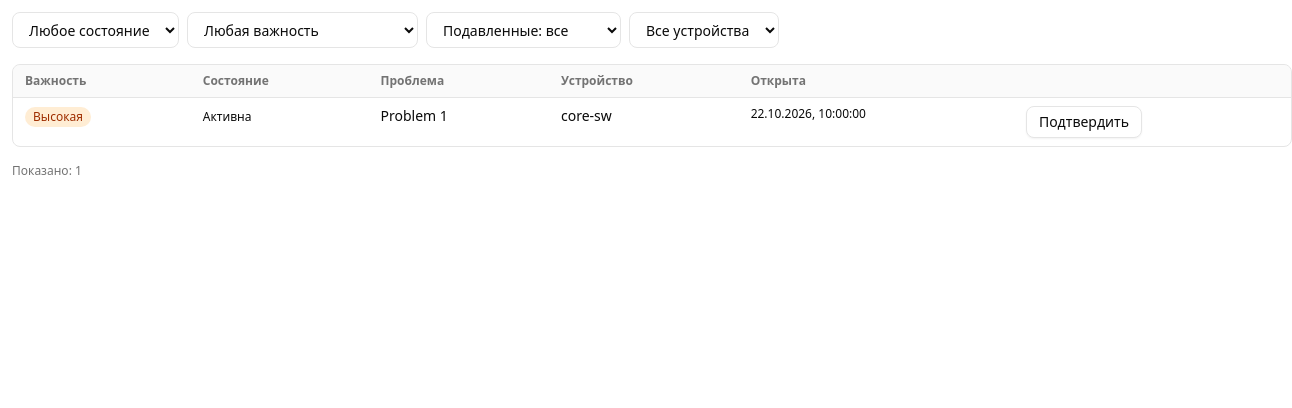
Test: ProblemList › maps a server refusal to a localized message
The width and height of the screenshot is (1292, 408).
Click the button with aria-label "Подробности". click: (1084, 122)
box: [1026,106,1142,138]
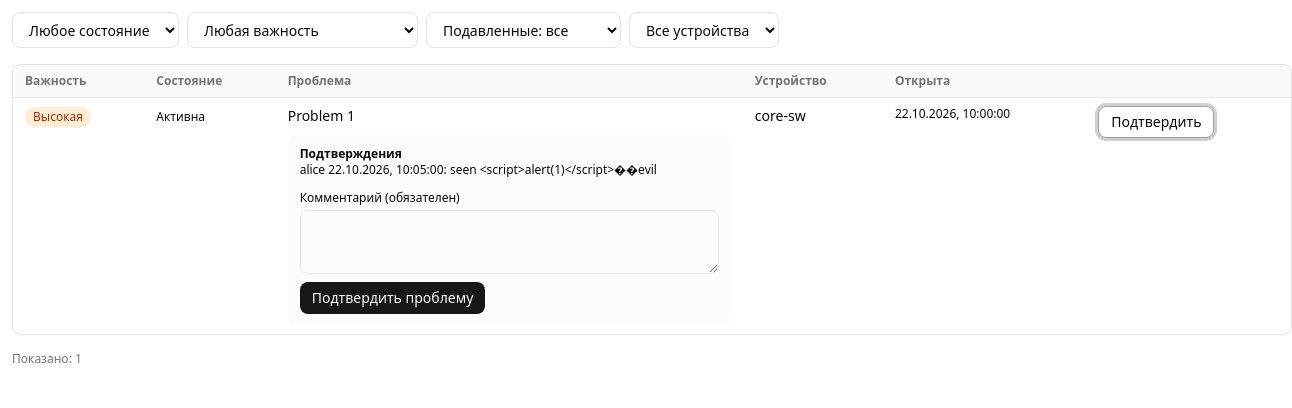
Type "late" into the text box labelled "Комментарий (обязателен)". click: (509, 242)
box: [300,210,719,274]
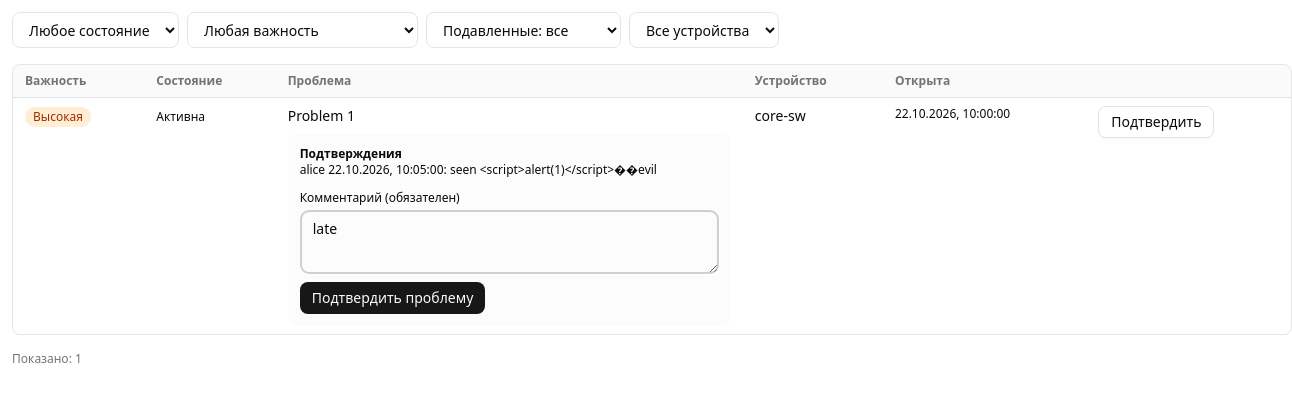
Click the button "Подтвердить проблему". click: (392, 298)
box: [300,282,485,314]
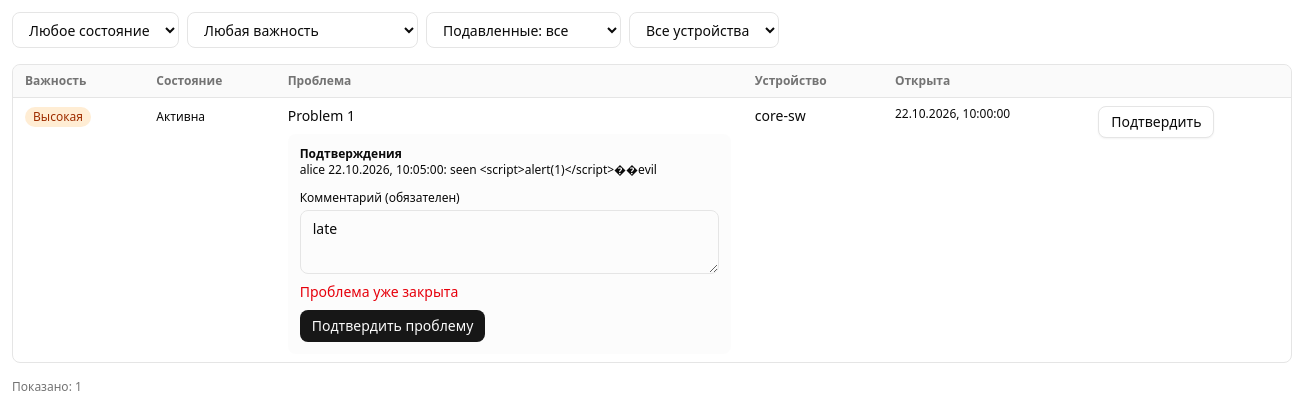
Expected: the text "Проблема уже закрыта" is shown, [300,282,458,301]
